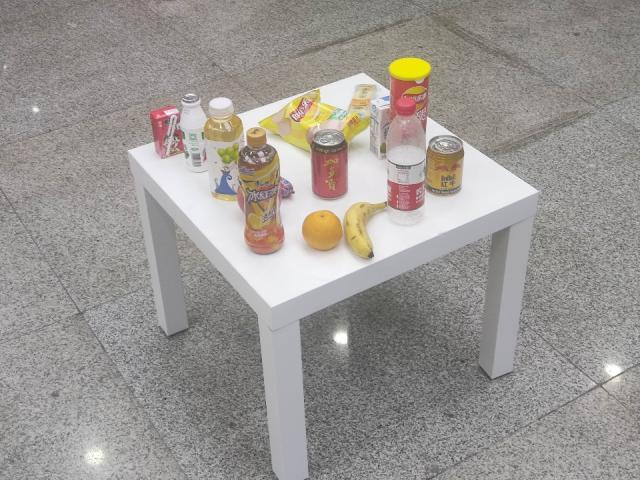Canned_drinks: (306, 126, 353, 198), (425, 129, 466, 197)
bottle: (378, 97, 430, 230)
drink_box: (138, 101, 186, 160), (368, 90, 397, 162)
